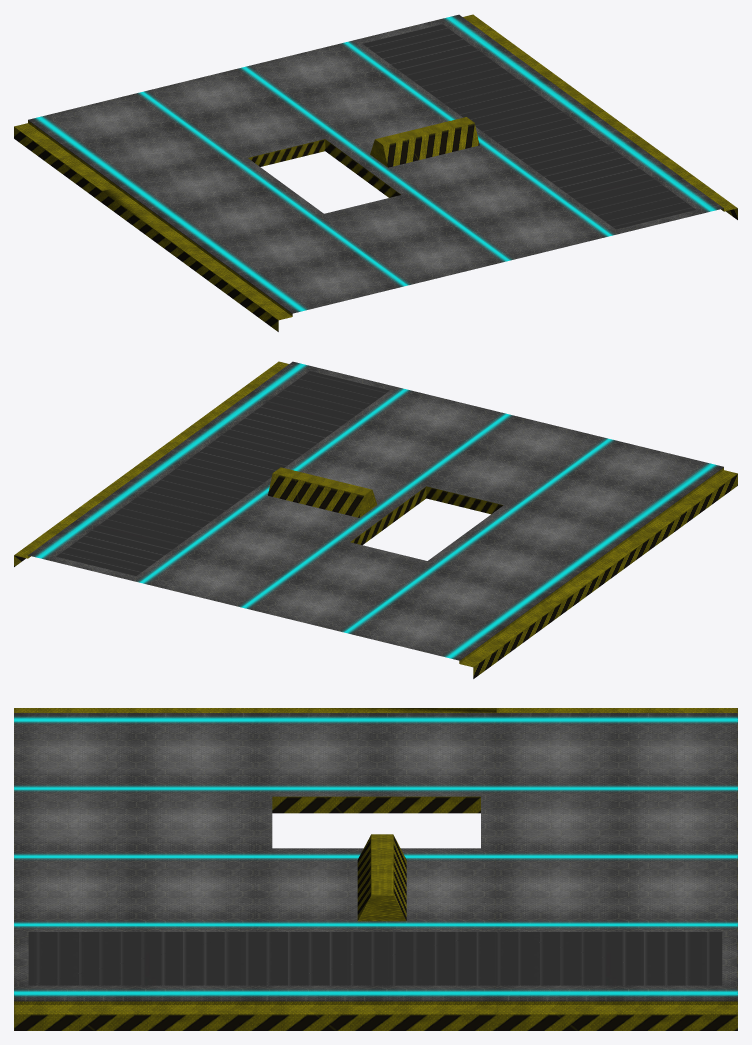
File: BigPlatform.FBX
3 renders of one model, top to bottom at view 1: azimuth 30°, elevation 25°; view 2: azimuth 150°, elevation 25°; view 3: azimuth 270°, elevation 25°, orthographic. The views are drawn at different scales.
Visible parts, largest first — view 1: Object003, Object004, Object005, Object002, Platform; view 2: Object003, Object004, Object005, Object002, Platform; view 3: Object003, Object004, Object005, Platform, Object002.
Part boxes in pixels (x1,y1,x2,y2): Object003: (246, 42, 608, 260); Object004: (41, 92, 403, 310); Object005: (348, 18, 710, 235); Object002: (144, 67, 505, 285); Platform: (14, 14, 737, 331); Object003: (143, 389, 505, 607); Object004: (348, 439, 710, 657); Object005: (41, 365, 403, 582); Object002: (246, 414, 607, 632); Platform: (14, 361, 737, 678); Object003: (14, 834, 737, 923); Object004: (14, 721, 737, 787); Object005: (14, 926, 737, 991); Platform: (14, 708, 737, 1030); Object002: (14, 789, 737, 855).
Bounding box in the file's own units: 1781 × 127 × 1779.
2 materials, 2 textured.
